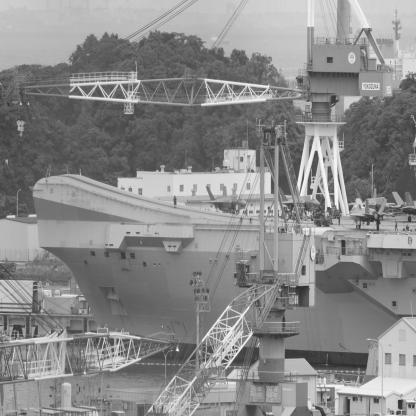F35: (349, 189, 397, 222), (346, 200, 392, 231), (279, 188, 322, 220), (201, 187, 248, 216), (390, 193, 416, 224)
